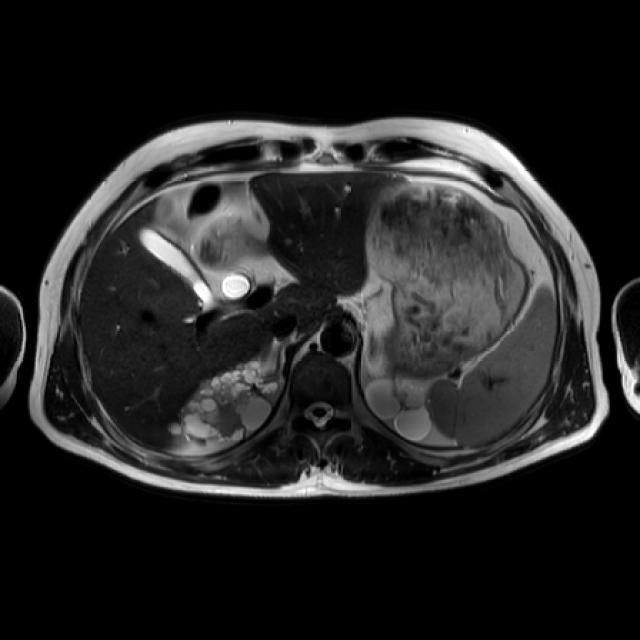sag: (171, 359, 285, 445)
sol: (367, 375, 431, 440)
